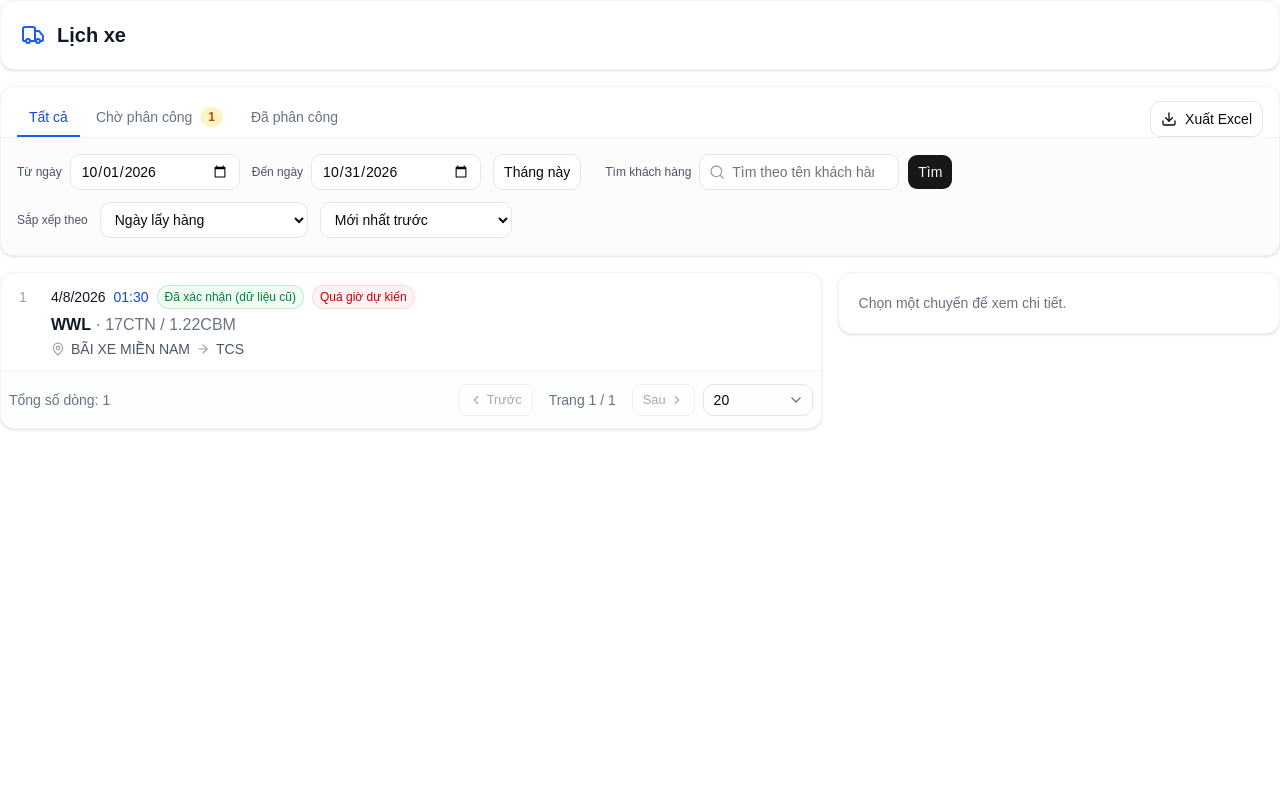
Test case: TripSchedulePage › ★ dispatch — the lorries and their drivers (ADR-0004) › ★ closes the panel when the trip leaves the filtered list after assigning
This screenshot has width=1280, height=789.
Click the button "WWL" at (78, 297), box x1=19 y1=285 x2=805 y2=359
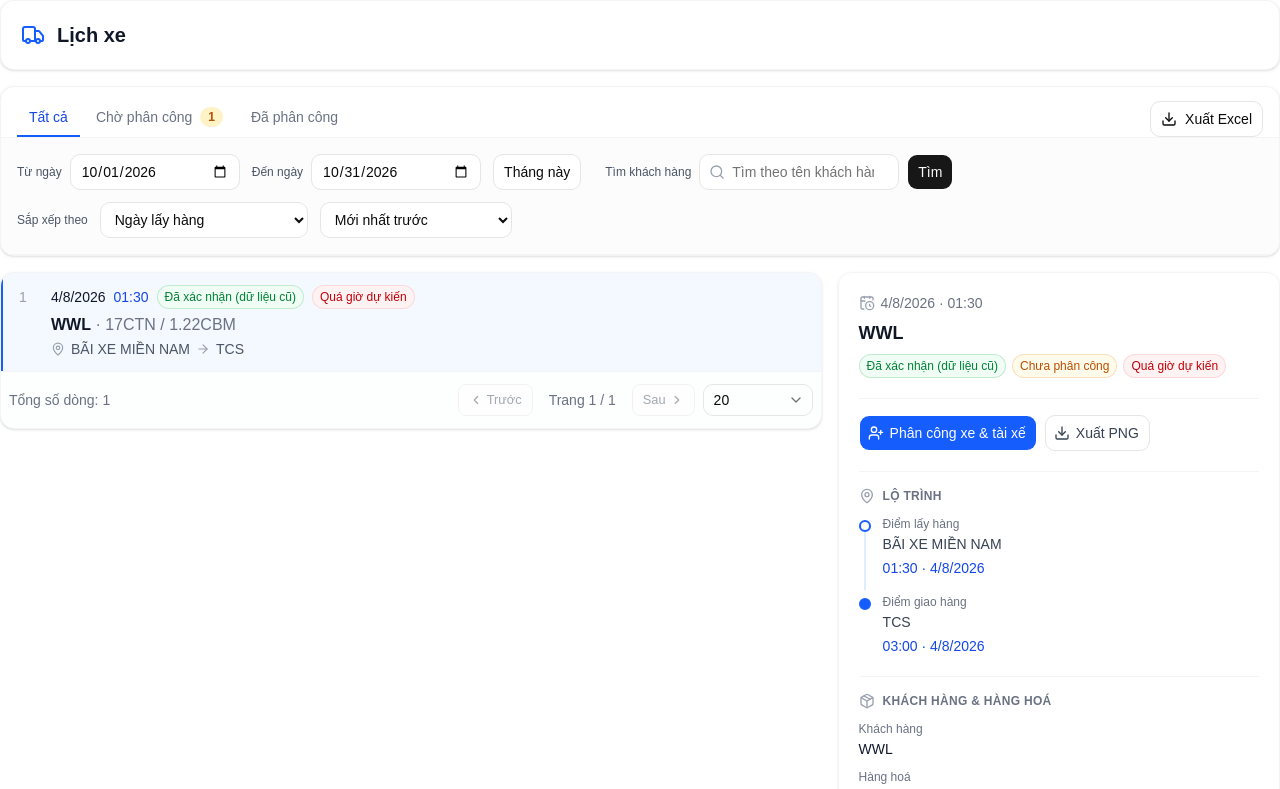
Click the button "Phân công xe & tài xế" at (948, 433), box x1=859 y1=415 x2=1037 y2=451
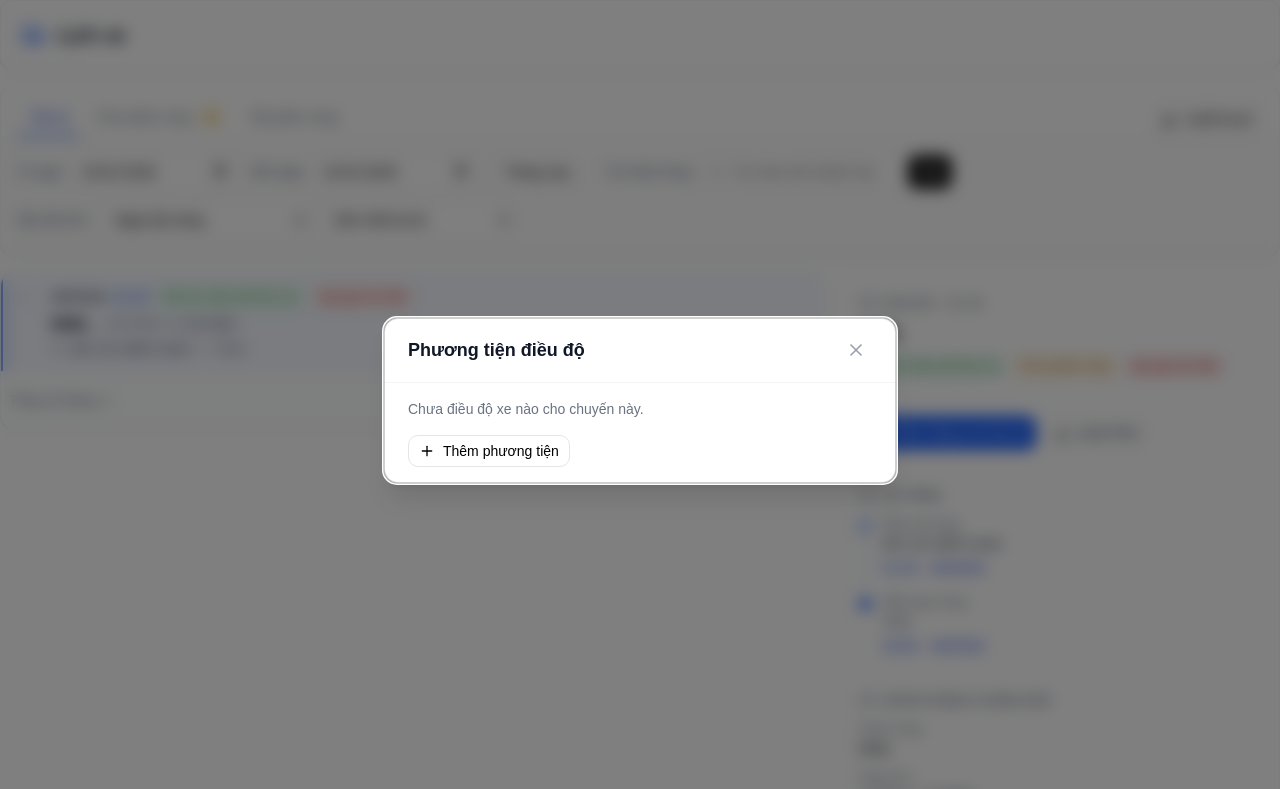
Click the button "Thêm phương tiện" at (489, 450), box x1=408 y1=434 x2=570 y2=466
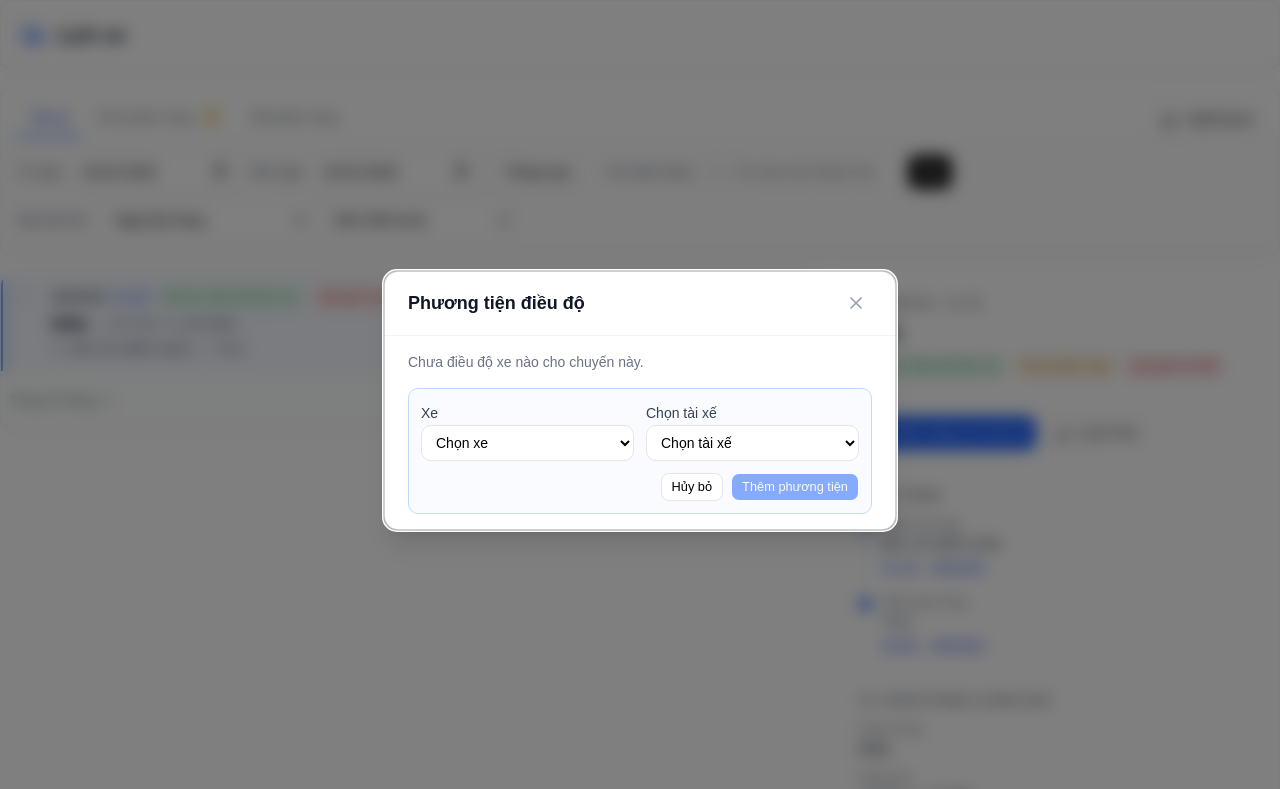
Select "50H-49266" in the dropdown labelled "Xe" at (528, 442), box x1=421 y1=424 x2=634 y2=460
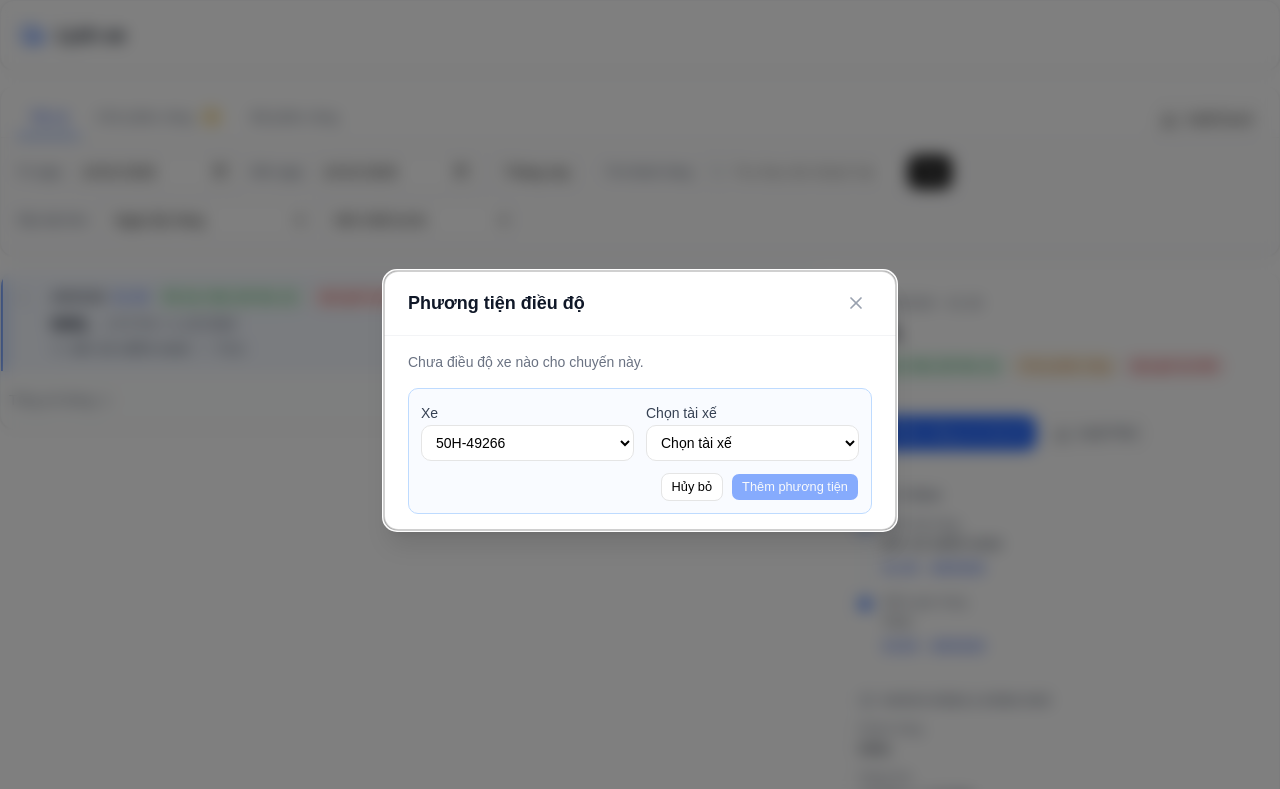
Select "Tài Xế B" in the dropdown labelled "Chọn tài xế" at (752, 442), box x1=646 y1=424 x2=859 y2=460
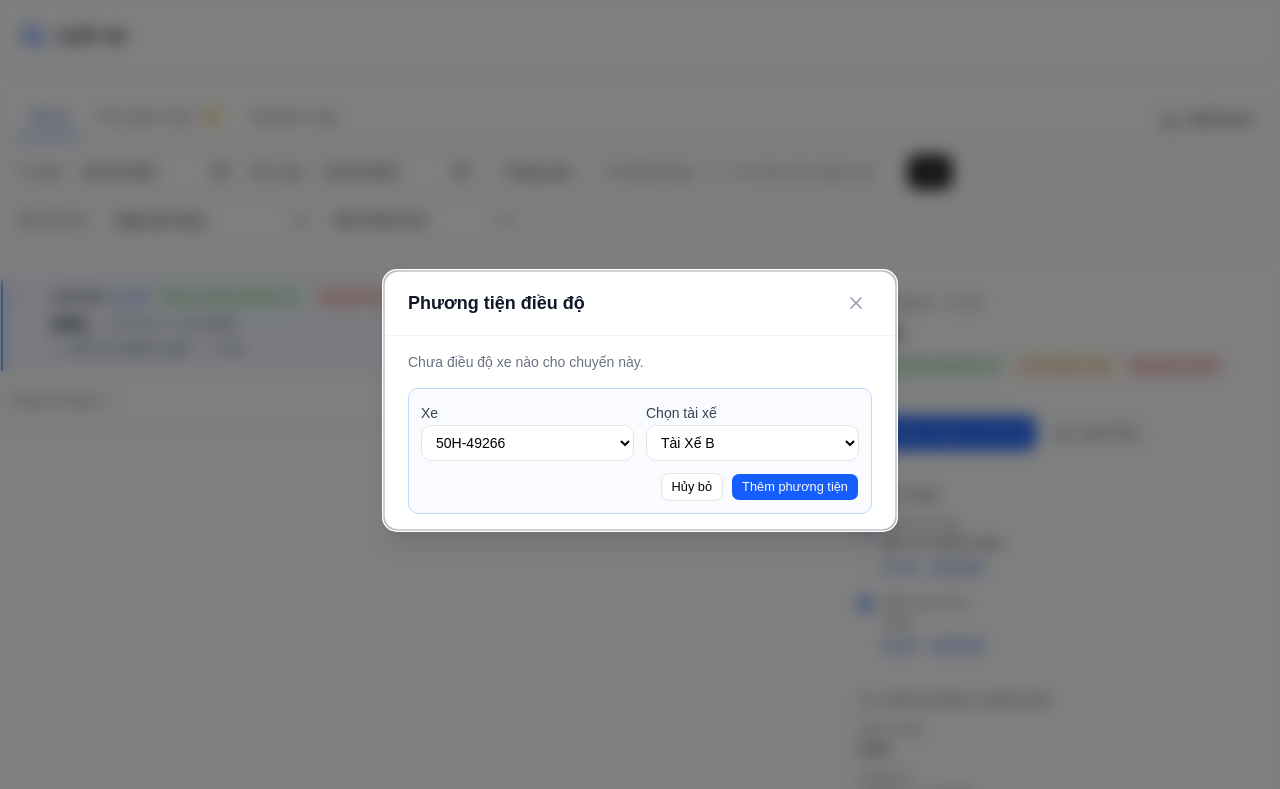
Click the button "Thêm phương tiện" at (795, 486), box x1=731 y1=472 x2=859 y2=500
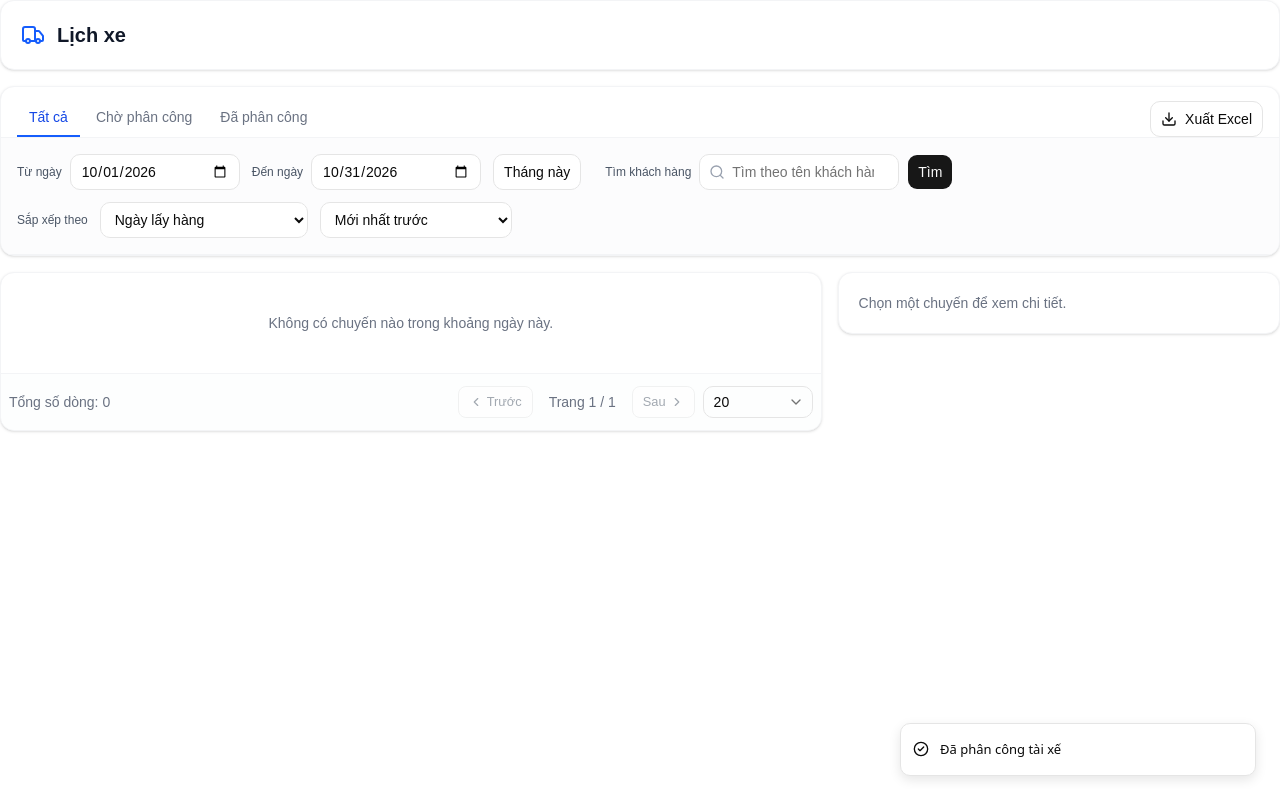
Now no headings labelled "Phương tiện điều độ" are shown
